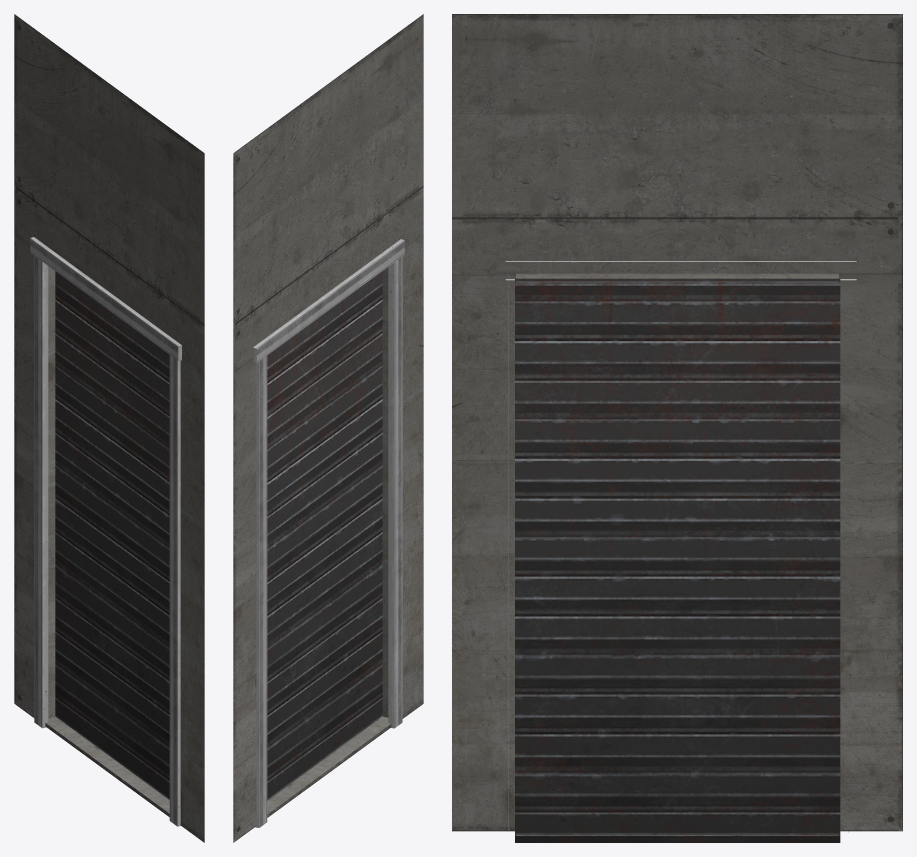
The model's file is CP_Wall_Roller_Shutters_07.fbx.
The picture shows the model from 3 angles, left to right: view 1: azimuth 30°, elevation 25°; view 2: azimuth 150°, elevation 25°; view 3: azimuth 270°, elevation 25°; orthographic projection. The views are drawn at different scales.
Parts seen in each view (by area): view 1: CP_Wall_Roller_Shutters_07; view 2: CP_Wall_Roller_Shutters_07; view 3: CP_Wall_Roller_Shutters_07.
Boxes of the visible parts, box(x1,y1,x2,y2) form: CP_Wall_Roller_Shutters_07: box(14, 14, 204, 842); CP_Wall_Roller_Shutters_07: box(233, 14, 423, 842); CP_Wall_Roller_Shutters_07: box(452, 14, 902, 842).
Size of the model in its own units: 11.36 by 402 by 200.
